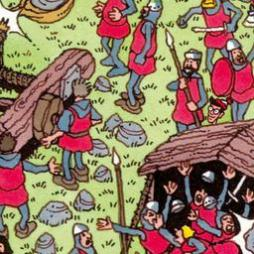wally: (204, 93, 233, 130)
